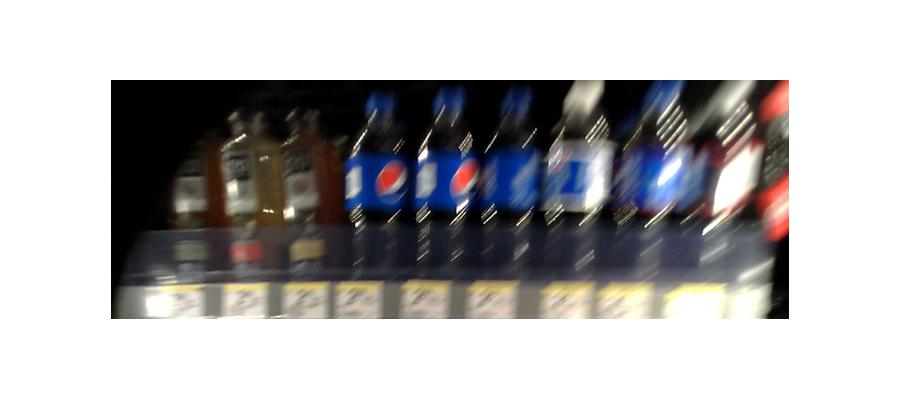bottle: (618, 74, 693, 284), (343, 90, 414, 280), (547, 83, 611, 283), (479, 82, 543, 280), (229, 103, 297, 282), (417, 78, 477, 280), (170, 123, 225, 283)
